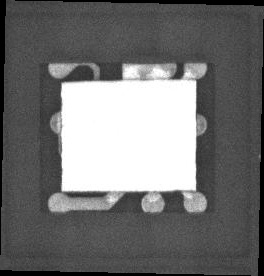DIE_BROKEN: (58, 83, 64, 190)
